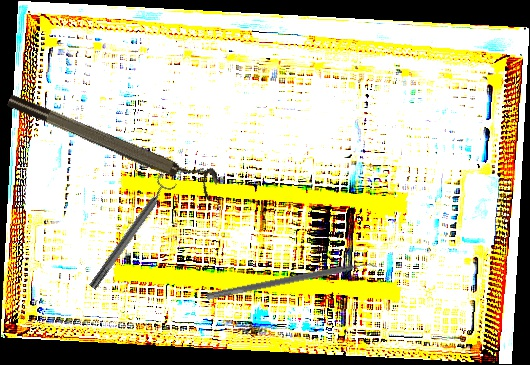Fixation Ring: (4, 81, 223, 201), (82, 172, 179, 294)
Spatula Surgical: (206, 257, 378, 308)
